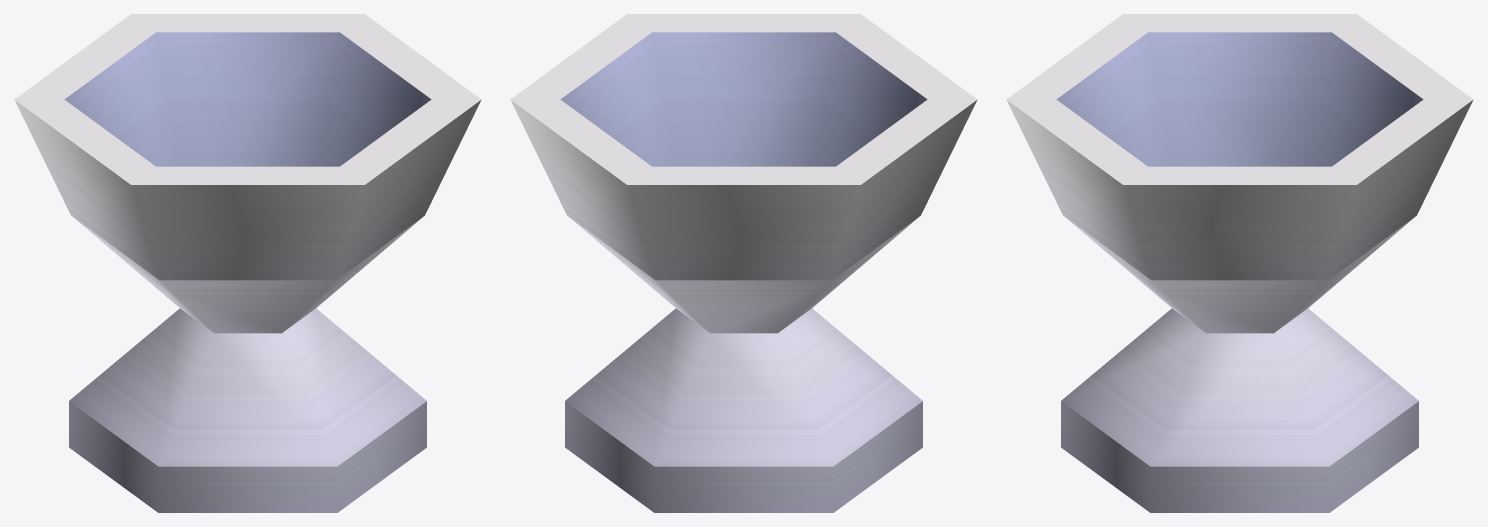
The model's file is egg-cup.glb.
3 views of the same model, side by side, from view 1: azimuth 30°, elevation 25°; view 2: azimuth 150°, elevation 25°; view 3: azimuth 270°, elevation 25° (orthographic).
Parts seen in each view (by area): view 1: egg-cup; view 2: egg-cup; view 3: egg-cup.
Boxes of the visible parts, x1,y1,x2,y2 form: egg-cup: [14, 14, 481, 512]; egg-cup: [510, 14, 977, 512]; egg-cup: [1006, 14, 1473, 512].
Bounding box in the file's own units: 0.1581 × 0.15 × 0.1826.
1 material, 1 textured.
